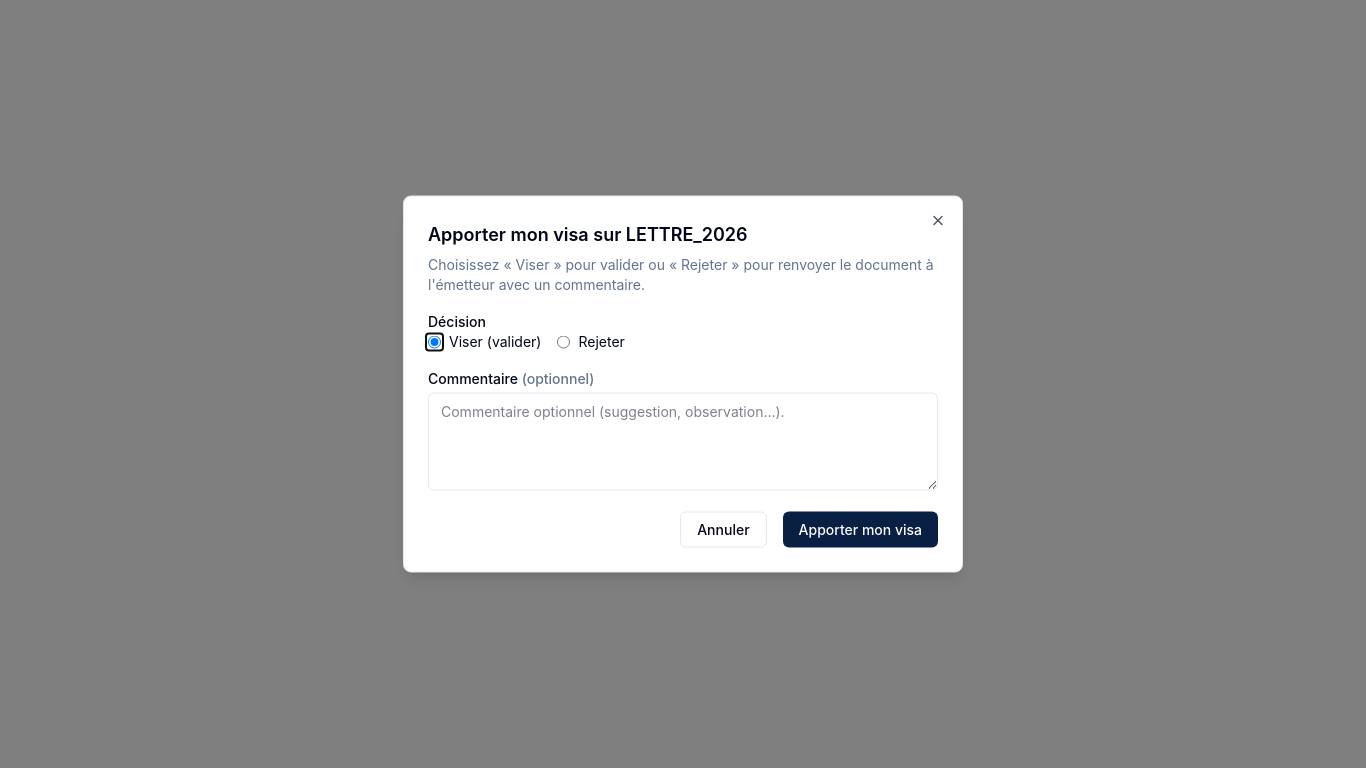
ApporterVisaModal (Lot 8.2.B P4) › 1. mode REJETER sans commentaire → erreur Zod + API jamais appelée
The width and height of the screenshot is (1366, 768).
Note: Switch sur mode REJETER
Click the radio button with test id "radio-rejeter". click: (564, 342)
box: [558,335,570,348]
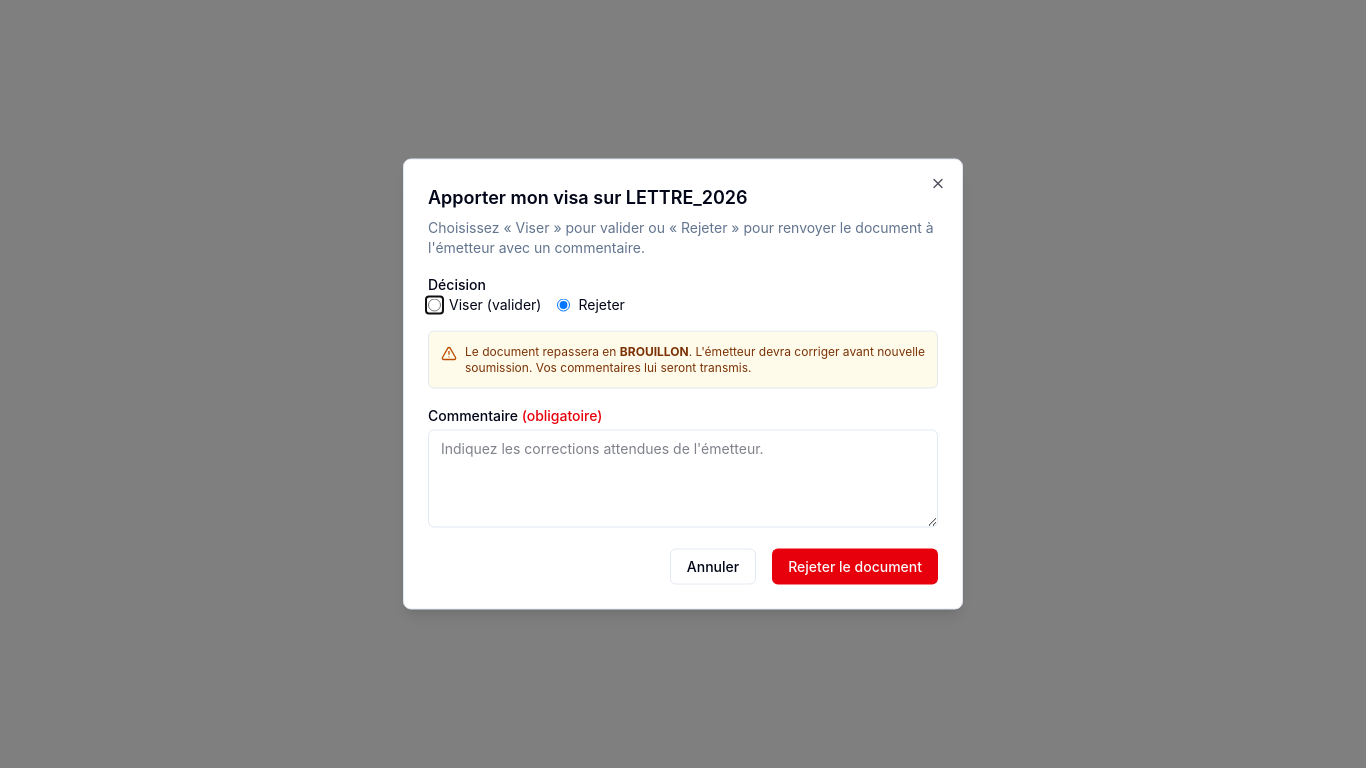
Now the element with test id "warning-rejet" is shown, box [428,330,938,388]
Note: Submit sans commentaire
Click the button with test id "btn-submit-visa". click: (855, 566)
box: [772,548,938,584]
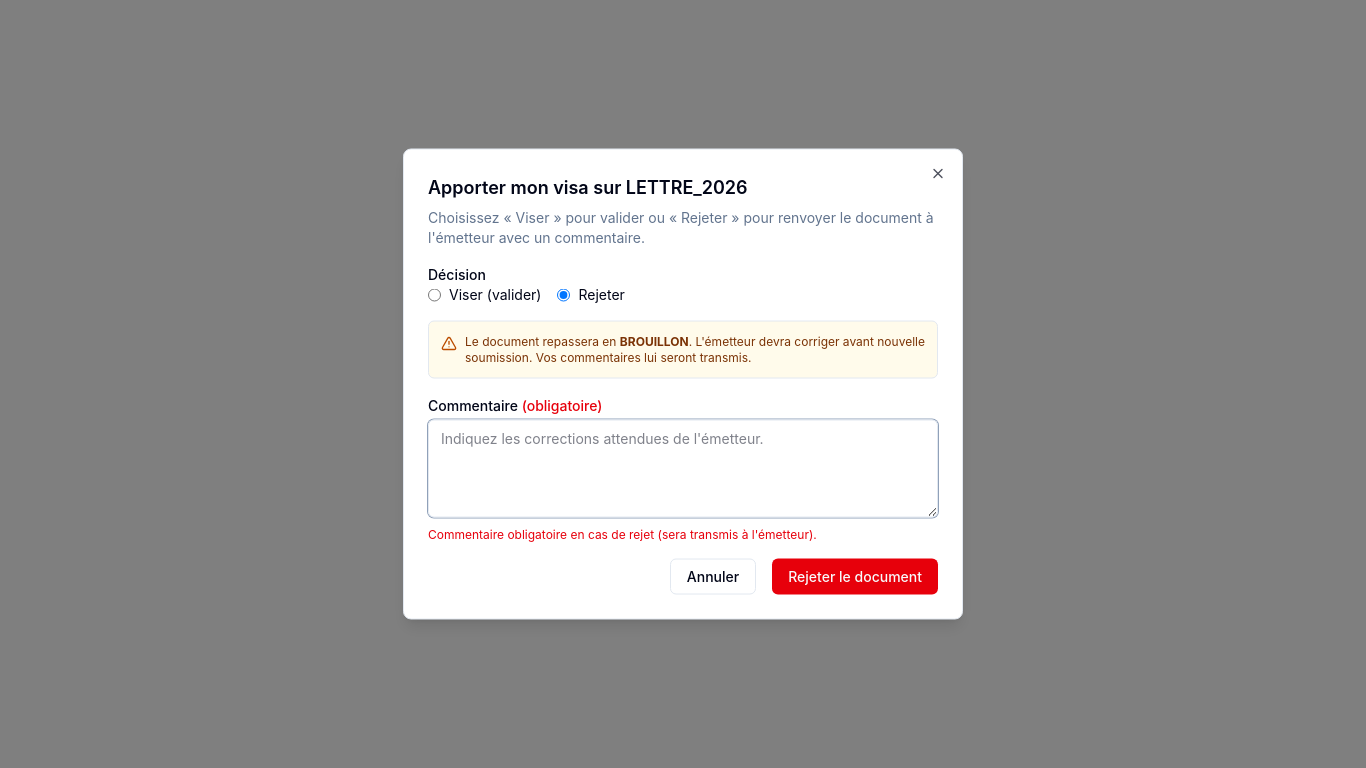
Now the text with test id "err-commentaire" shows "obligatoire", box [428,526,817,542]
